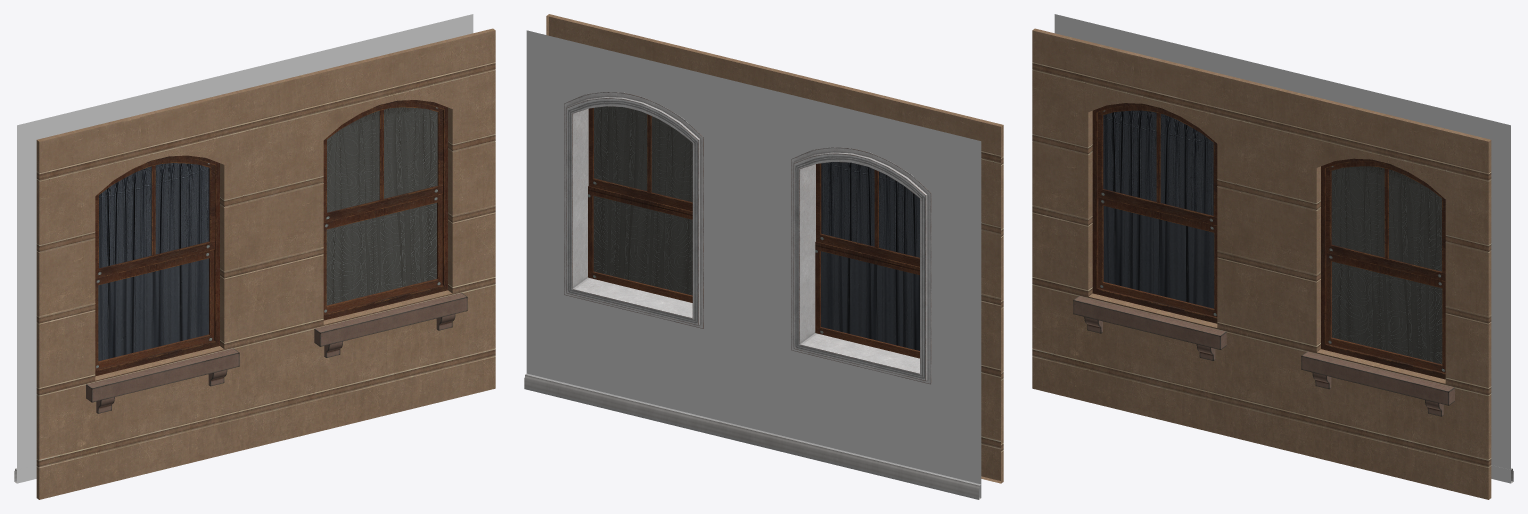
The model's file is House_01_Windows_04.fbx.
3 renders of one model, left to right at view 1: azimuth 30°, elevation 25°; view 2: azimuth 150°, elevation 25°; view 3: azimuth 330°, elevation 25°, orthographic.
Parts seen in each view (by area): view 1: House_01_Windows_04_LOD0; view 2: House_01_Windows_04_LOD0; view 3: House_01_Windows_04_LOD0.
Boxes of the visible parts, x1=… form: House_01_Windows_04_LOD0: x1=14, y1=14, x2=495, y2=499; House_01_Windows_04_LOD0: x1=524, y1=14, x2=1003, y2=499; House_01_Windows_04_LOD0: x1=1032, y1=14, x2=1513, y2=499.
Size of what is drawn, in the model's own units: 400 by 300 by 46.91.
